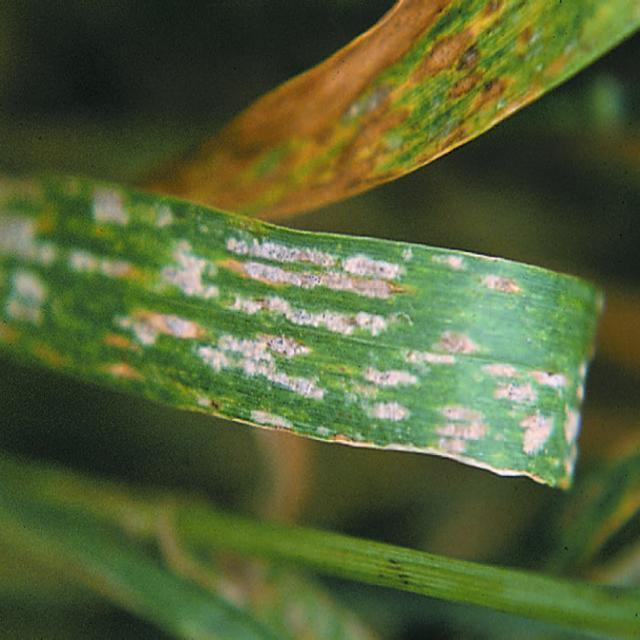Powdery Mildew: (0, 176, 603, 488)
Septoria: (143, 0, 639, 220)
